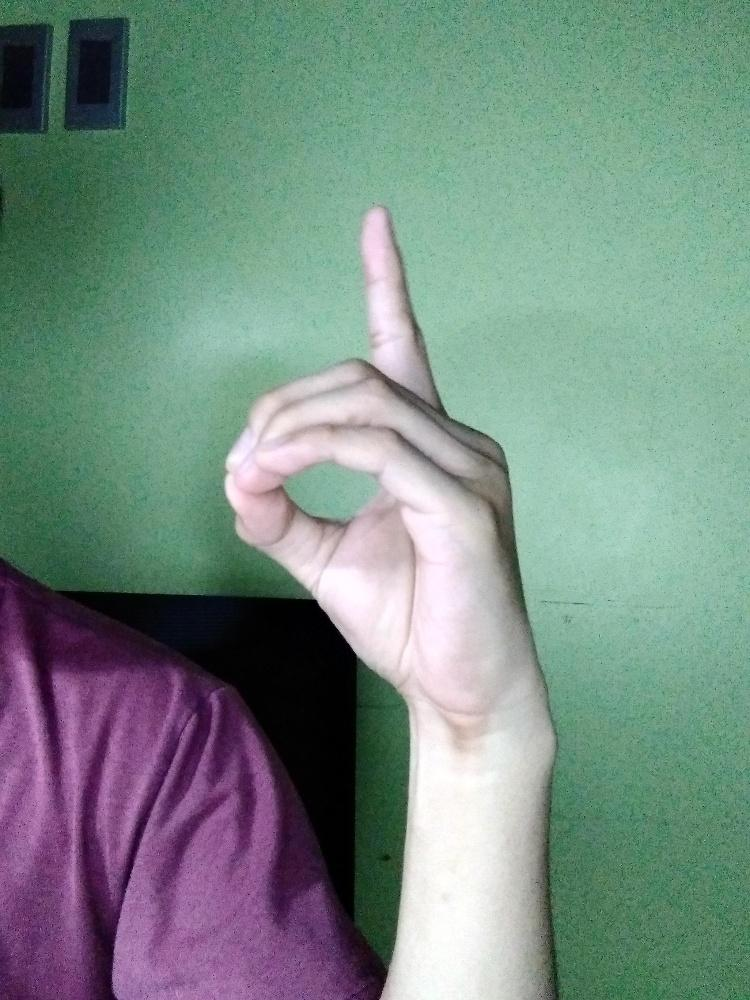d: (222, 201, 536, 705)
